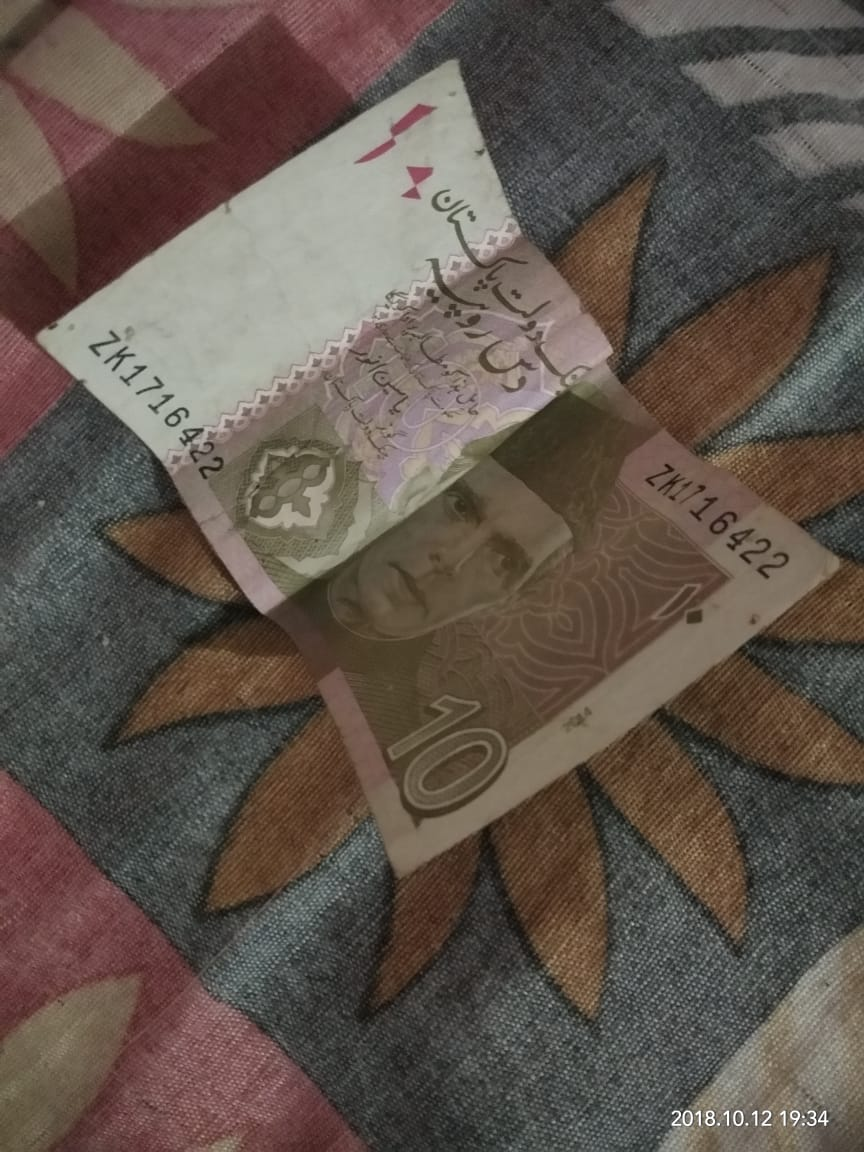10 rupee: (32, 61, 856, 885)
